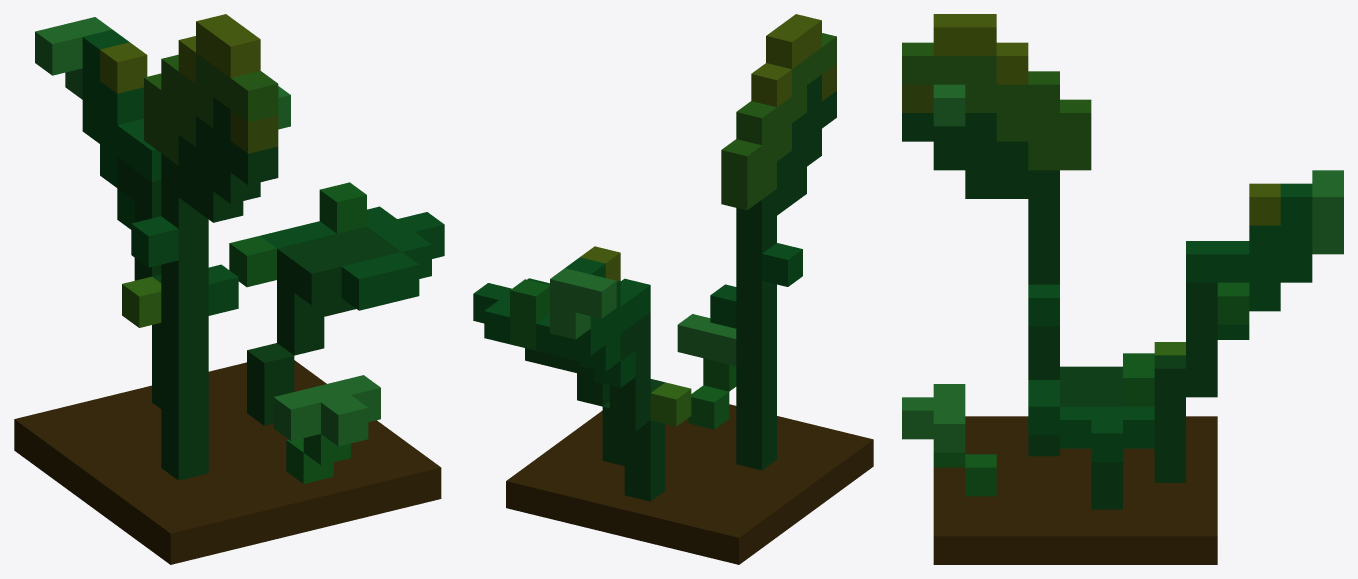
File: Plant01.gltf
3 views of the same model, side by side, from view 1: azimuth 30°, elevation 25°; view 2: azimuth 150°, elevation 25°; view 3: azimuth 270°, elevation 25° (orthographic). The views are drawn at different scales.
Visible parts, largest first — view 1: Plant01, PlantSoil; view 2: Plant01, PlantSoil; view 3: Plant01, PlantSoil.
Boxes of the visible parts, left/top/right/bottom form: Plant01: left=35, top=14, right=444, bottom=483; PlantSoil: left=14, top=360, right=441, bottom=564; Plant01: left=473, top=14, right=836, bottom=501; PlantSoil: left=506, top=404, right=873, bottom=564; Plant01: left=902, top=14, right=1343, bottom=509; PlantSoil: left=933, top=416, right=1217, bottom=564.
Bounding box in the file's own units: 12 × 16 × 14.
